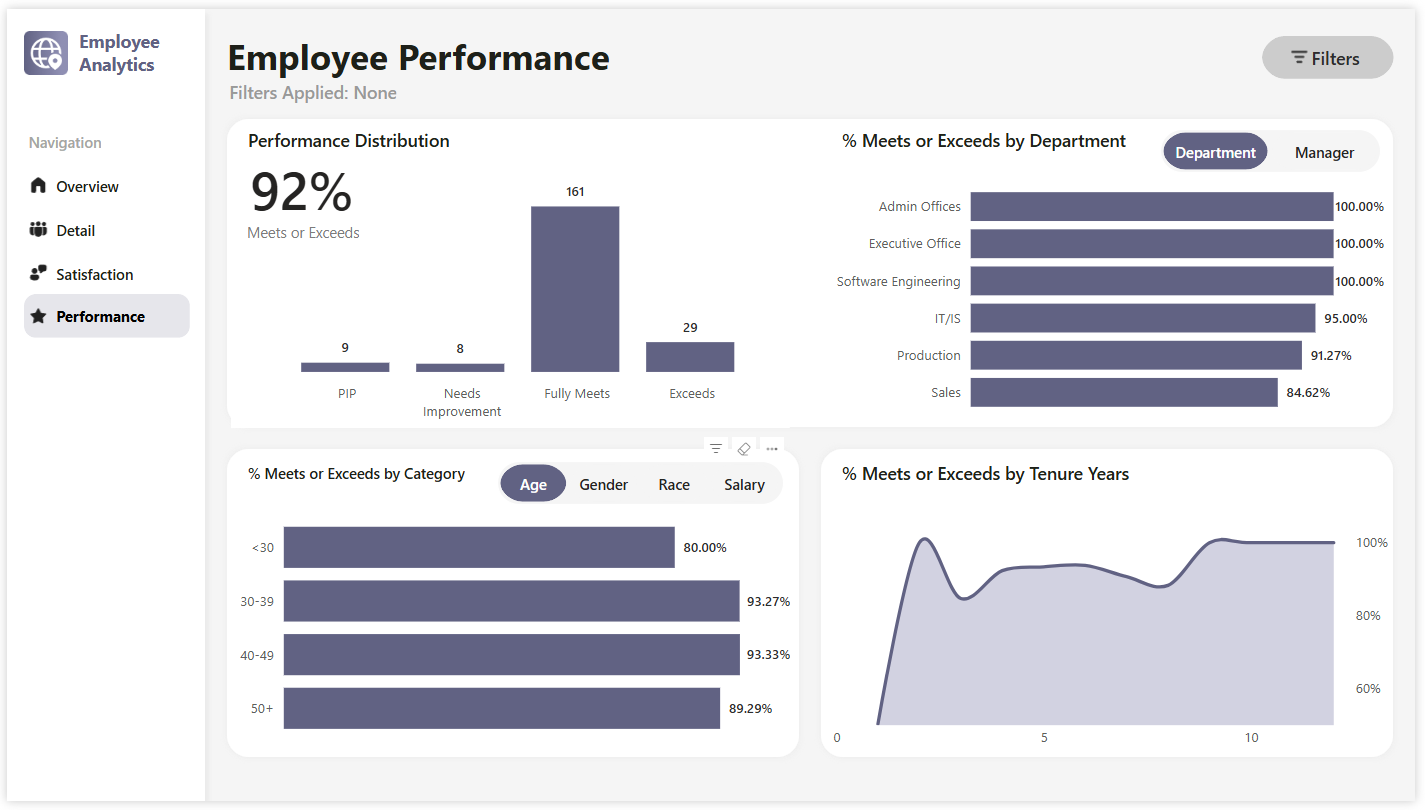

This screenshot's page, from the dashboard's own definition file:
{"tool":"powerbi","page":{"name":"Performance","canvas":[1280,720],"ordinal":3},"visuals":[{"type":"shape","box":[65,18,105.8,42],"z":0,"group":"g1"},{"type":"shape","box":[199.1,401.1,399.6,40.4],"z":0},{"type":"image","box":[15,20.2,40.3,40.3],"z":1000,"group":"g1"},{"type":"barChart","fields":{"Category":["Department.Department"],"Y":["_Measures.perfEmpsMeetExceed"]},"box":[738.7,139.9,518,240.9],"z":1000},{"type":"clusteredColumnChart","fields":{"Y":["_Measures.activeEmps"],"Category":["Performance.PerformanceScore"]},"box":[203.4,139.9,507.9,240.9],"z":2000},{"type":"advancedSlicerVisual","fields":{"Values":["DeptManagerParam.DeptManagerParam"]},"box":[1048,109,200.5,40.4],"z":3000},{"type":"actionButton","box":[15,140,150,40],"z":4000},{"type":"actionButton","box":[15,180,150.8,40],"z":5000},{"type":"actionButton","box":[15,220,150.8,40],"z":6000},{"type":"actionButton","box":[15,259,150.8,39.8],"z":7000},{"type":"actionButton","box":[15,100,150.8,40],"z":8000},{"type":"advancedSlicerVisual","fields":{"Values":["paramDemographics.paramDemographics"]},"box":[445.8,411.2,261.1,40.4],"z":9000},{"type":"clusteredBarChart","fields":{"Category":["Employee.AgeCategory"],"Y":["_Measures.perfEmpsMeetExceed"]},"box":[203.4,438.6,513.6,242.4],"z":10000},{"type":"shape","box":[200,20,400,50],"z":11000},{"type":"shape","box":[200,60,400,30],"z":12000},{"type":"shape","box":[198.8,98.1,400,40],"z":14000},{"type":"cardVisual","fields":{"Data":["_Measures.perfEmpsMeetExceed"]},"box":[199.1,105.3,134.2,105.3],"z":15000},{"type":"shape","box":[217.9,190.4,115.4,24.5],"z":16000},{"type":"shape","box":[738.7,98.1,399.6,40.4],"z":18000},{"type":"actionButton","box":[1141.2,24.5,119.7,39],"z":20000},{"type":"group","id":"g1","title":"Group 1","box":[15,18,155.8,42.5],"z":20001},{"type":"lineChart","fields":{"Category":["Employee.Tenure (Year)"],"Y":["_Measures.perfEmpsMeetExceed"]},"box":[738.8,438.4,522.1,241.9],"z":20003},{"type":"shape","box":[738.8,401.1,400.1,40.3],"z":20004}]}

Visuals, with their boxes on the page's 1280x720 design canvas (x1, y1, x2, y2). These are canvas units, not pixel positions in the 1425x810 screenshot, which may show the page scaled, cropped or inside an application window:
shape: locate(65, 18, 171, 60)
shape: locate(199, 401, 599, 442)
image: locate(15, 20, 55, 60)
barChart - Department.Department x _Measures.perfEmpsMeetExceed: locate(739, 140, 1257, 381)
clusteredColumnChart - _Measures.activeEmps x Performance.PerformanceScore: locate(203, 140, 711, 381)
advancedSlicerVisual - DeptManagerParam.DeptManagerParam: locate(1048, 109, 1248, 149)
actionButton: locate(15, 140, 165, 180)
actionButton: locate(15, 180, 166, 220)
actionButton: locate(15, 220, 166, 260)
actionButton: locate(15, 259, 166, 299)
actionButton: locate(15, 100, 166, 140)
advancedSlicerVisual - paramDemographics.paramDemographics: locate(446, 411, 707, 452)
clusteredBarChart - Employee.AgeCategory x _Measures.perfEmpsMeetExceed: locate(203, 439, 717, 681)
shape: locate(200, 20, 600, 70)
shape: locate(200, 60, 600, 90)
shape: locate(199, 98, 599, 138)
cardVisual - _Measures.perfEmpsMeetExceed: locate(199, 105, 333, 211)
shape: locate(218, 190, 333, 215)
shape: locate(739, 98, 1138, 138)
actionButton: locate(1141, 24, 1261, 64)
"Group 1" group: locate(15, 18, 171, 60)
lineChart - Employee.Tenure (Year) x _Measures.perfEmpsMeetExceed: locate(739, 438, 1261, 680)
shape: locate(739, 401, 1139, 441)
